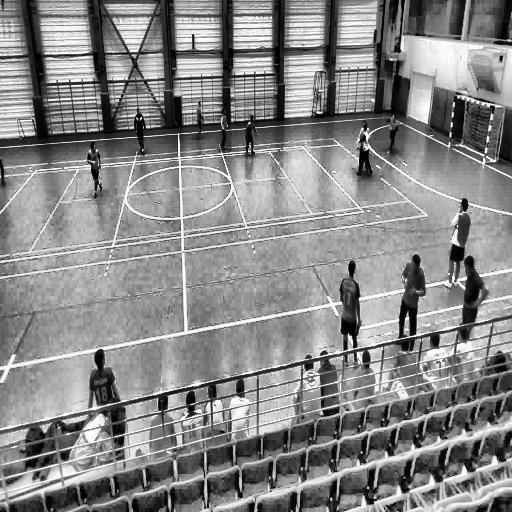ball: (371, 97, 376, 108)
player: (398, 254, 426, 349), (339, 258, 361, 364), (461, 256, 487, 339), (88, 138, 104, 199), (356, 124, 374, 177), (357, 120, 370, 173), (133, 108, 147, 157), (386, 108, 399, 156), (244, 113, 258, 157), (219, 107, 229, 152), (195, 101, 204, 140)
